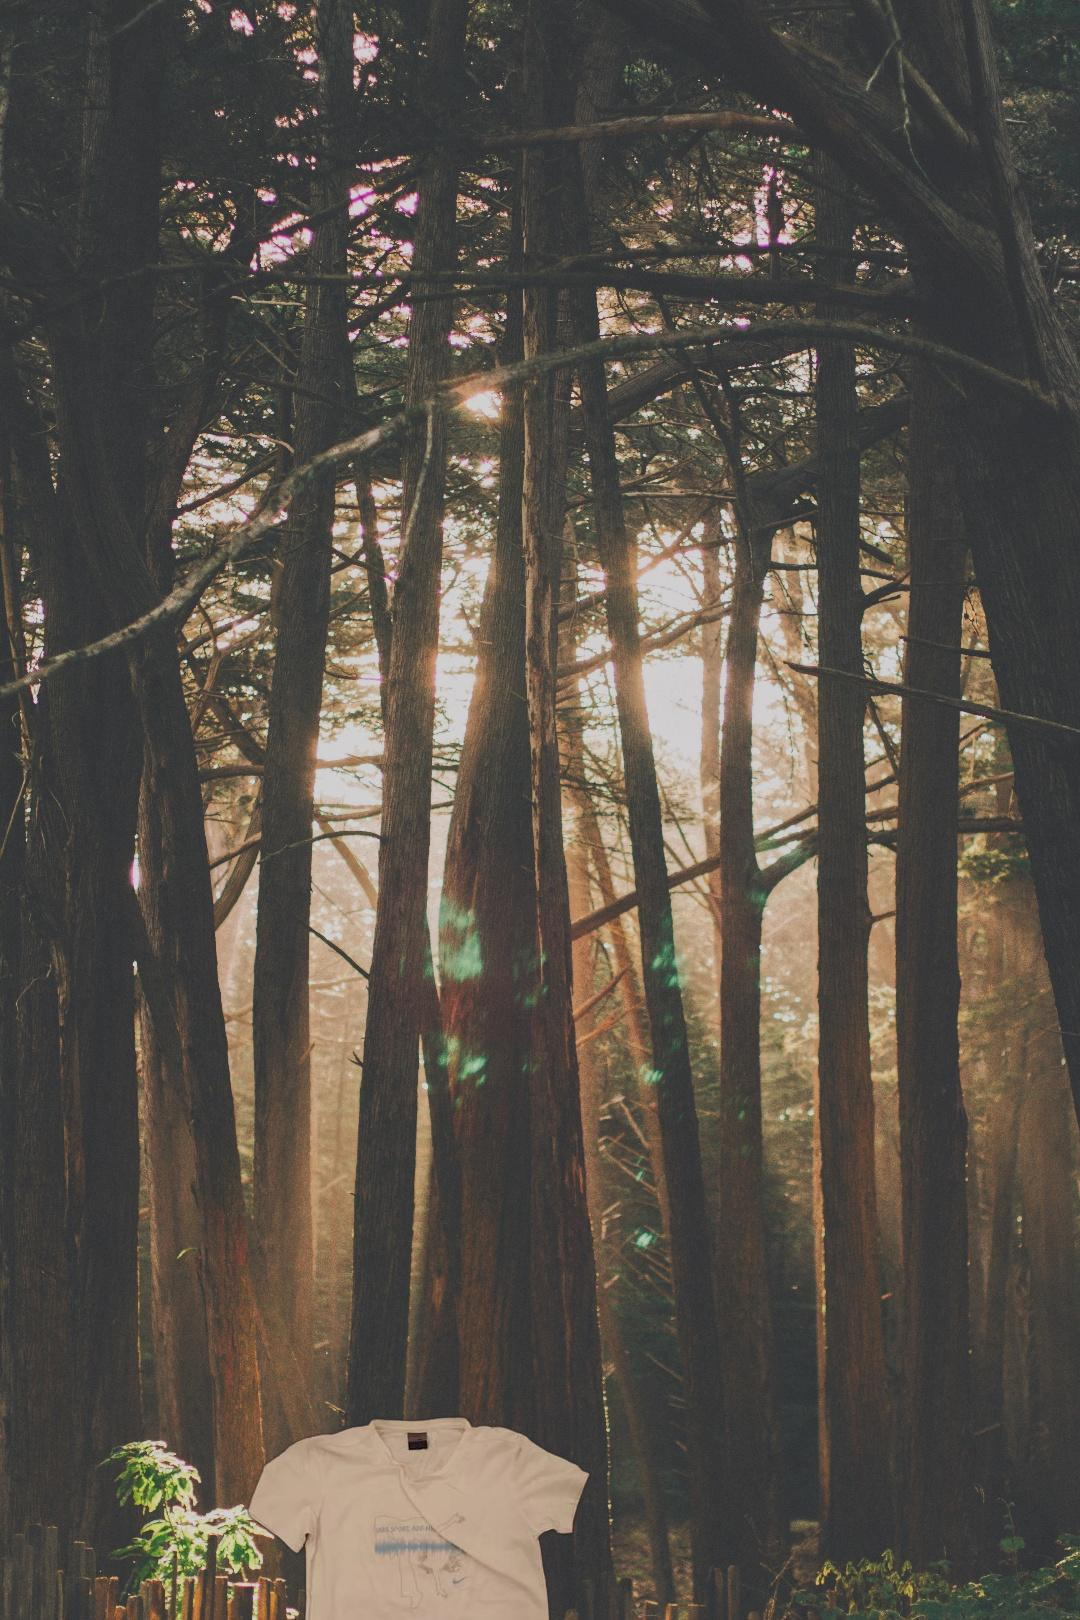clothes: (246, 1414, 594, 1620)
